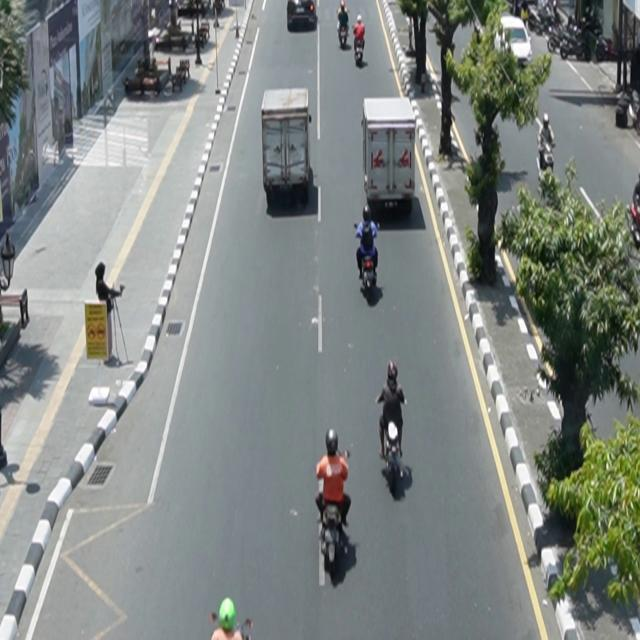car: (495, 15, 534, 68), (287, 1, 317, 32)
truck: (362, 97, 417, 215), (262, 88, 312, 207)
